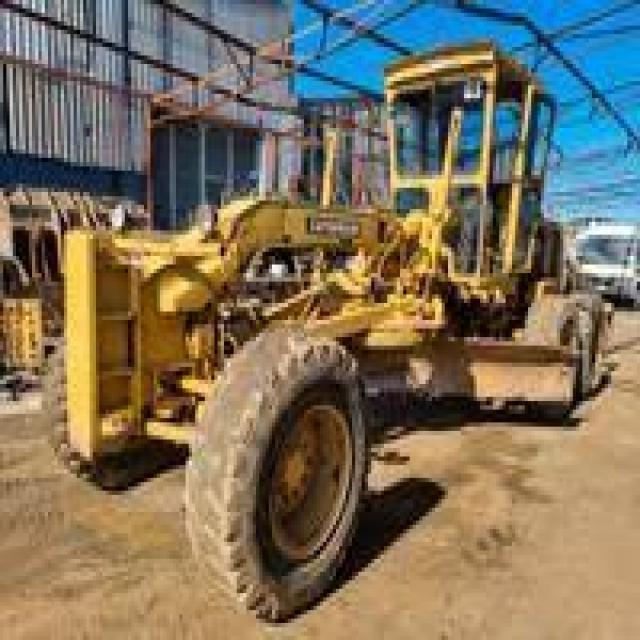buldozerpayloadergrader: (51, 39, 618, 602)
